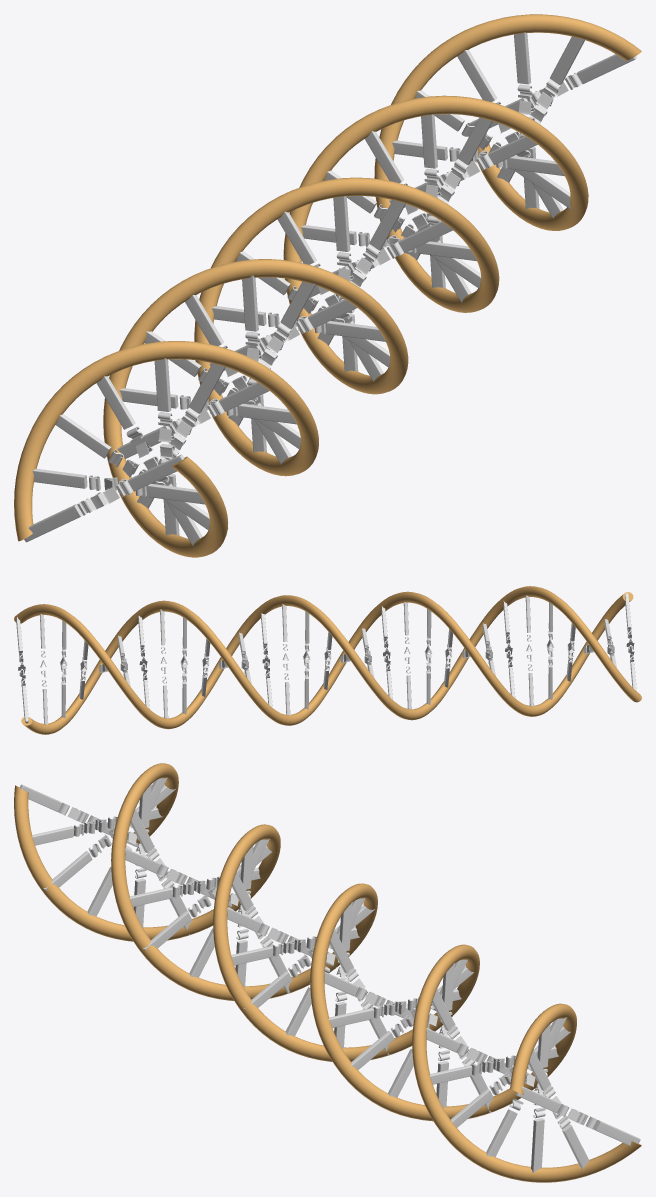
The model's file is SAPS.glb.
3 renders of one model, top to bottom at view 1: azimuth 30°, elevation 25°; view 2: azimuth 150°, elevation 25°; view 3: azimuth 270°, elevation 25°, orthographic. The views are drawn at different scales.
Parts seen in each view (by area): view 1: KHOON DUSRI BAAR; view 2: KHOON DUSRI BAAR; view 3: KHOON DUSRI BAAR.
Part boxes in pixels (bbox=[...]): KHOON DUSRI BAAR: bbox=[14, 14, 641, 557]; KHOON DUSRI BAAR: bbox=[14, 586, 641, 734]; KHOON DUSRI BAAR: bbox=[14, 763, 641, 1182].
Bounding box in the file's own units: 4.56 × 1.05 × 3.55.
